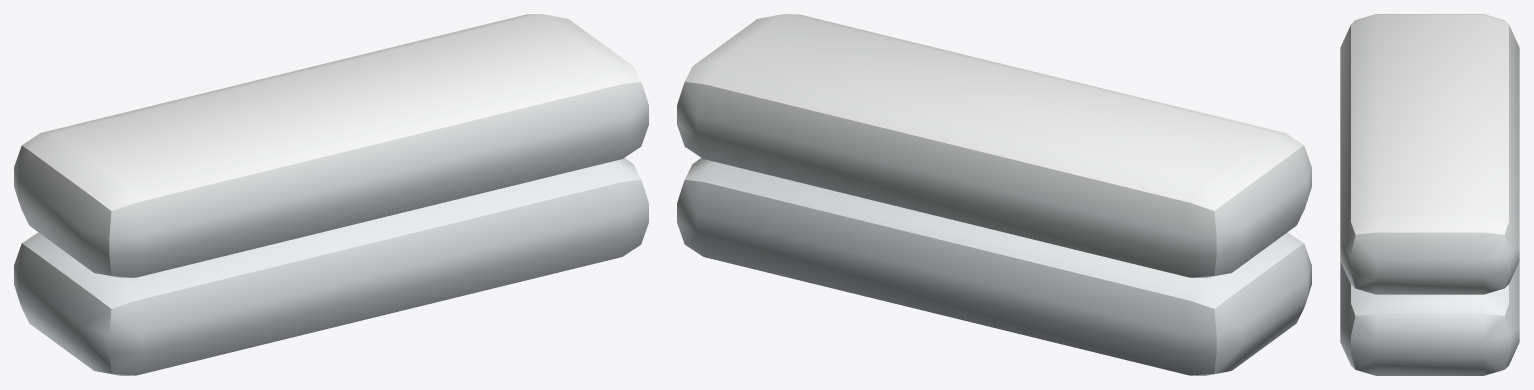
File: barrier_3x1x1.glb
3 views of the same model, side by side, from view 1: azimuth 30°, elevation 25°; view 2: azimuth 150°, elevation 25°; view 3: azimuth 270°, elevation 25° (orthographic). The views are drawn at different scales.
Parts seen in each view (by area): view 1: barrier_3x1x1; view 2: barrier_3x1x1; view 3: barrier_3x1x1.
Boxes of the visible parts, left/top/right/bottom form: barrier_3x1x1: left=14, top=14, right=648, bottom=375; barrier_3x1x1: left=677, top=14, right=1311, bottom=375; barrier_3x1x1: left=1340, top=14, right=1519, bottom=375.
Size of the model in its own units: 3 by 1 by 1.
Materials: 1 (1 with a texture image).
